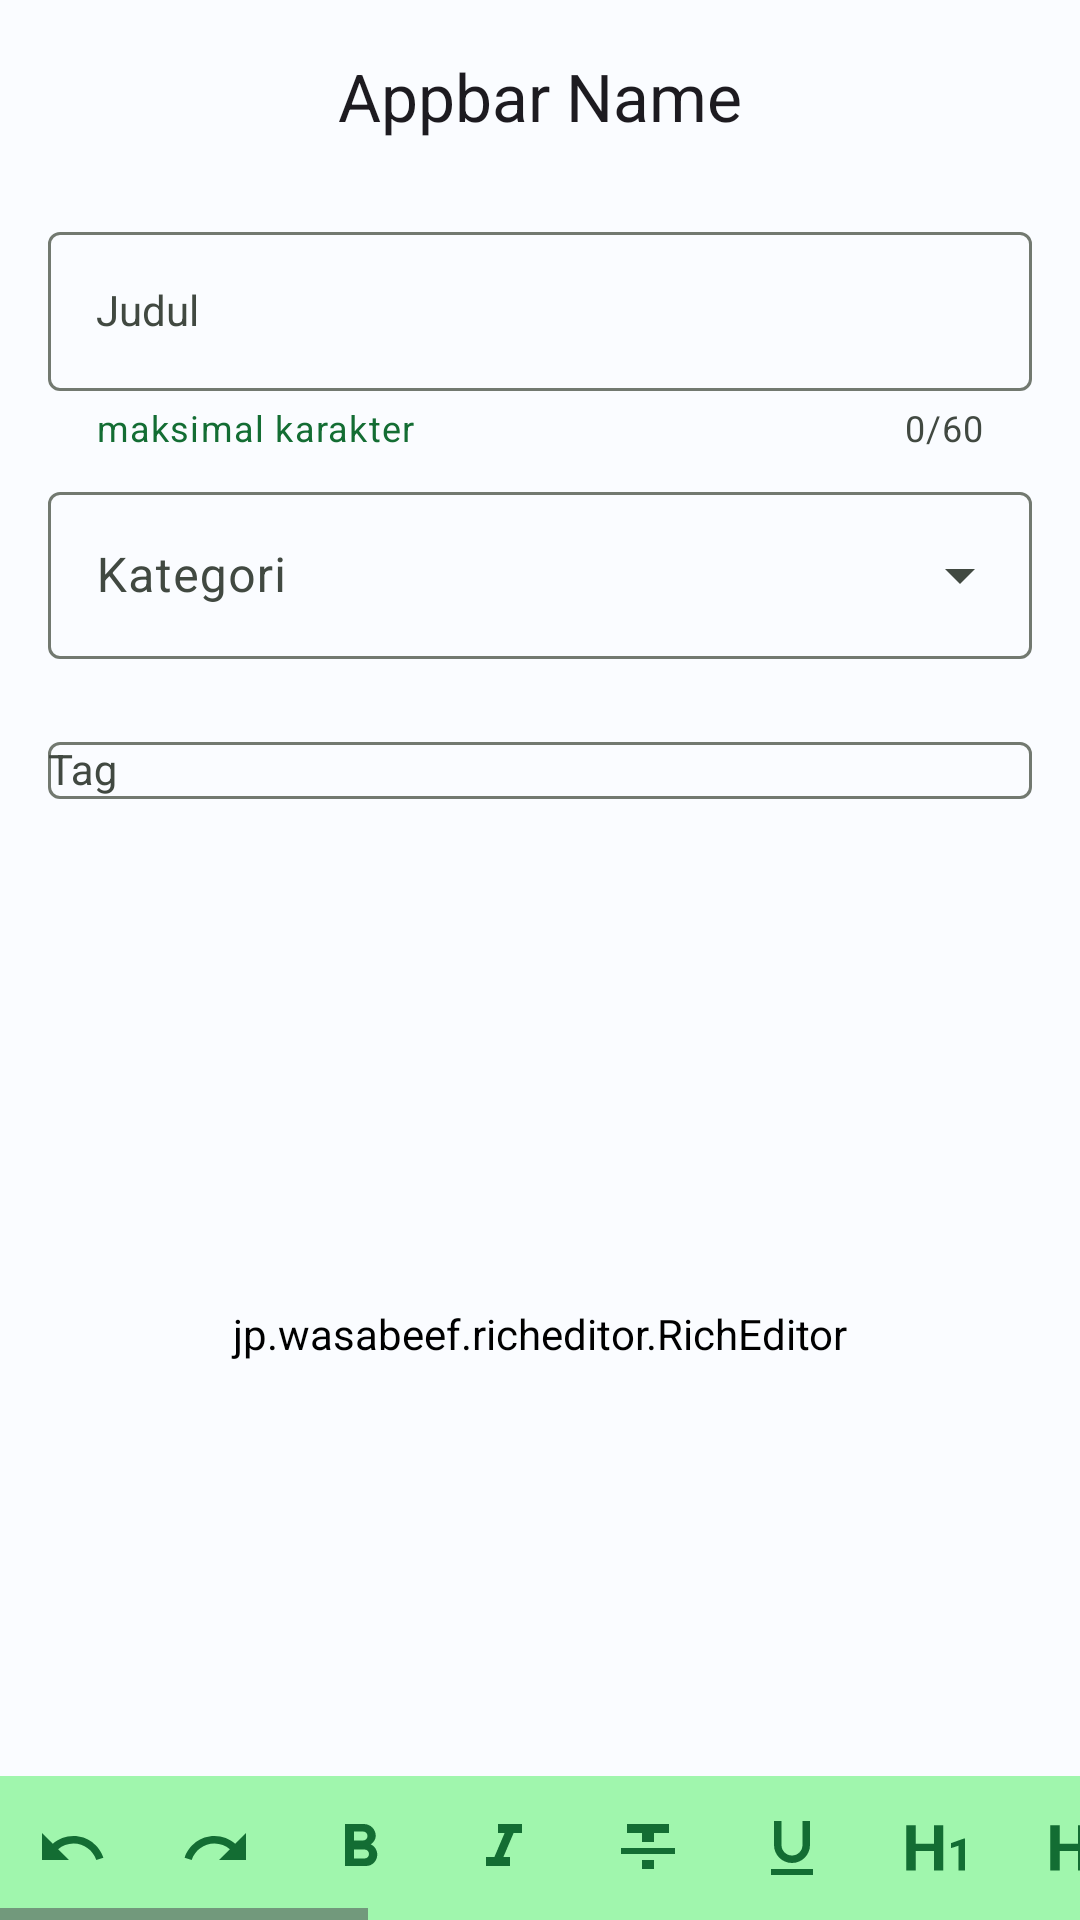

Icons on this 1080 × 1920 Android screen, each with the point to tap as [x,y]:
italic: [504,1845]
redo: [216,1848]
strikethrough: [648,1846]
underlined: [792,1848]
undo: [72,1848]
